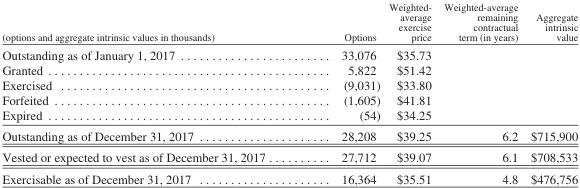table: (1, 0, 577, 185)
table column: (1, 0, 302, 185), (437, 0, 523, 185), (302, 0, 383, 185), (383, 0, 437, 185), (523, 0, 577, 185)
table column header: (1, 0, 577, 44)
table row: (1, 0, 577, 44), (1, 125, 577, 146), (1, 146, 577, 167), (1, 44, 577, 62), (1, 107, 577, 125), (1, 167, 577, 185), (1, 62, 577, 77), (1, 77, 577, 92), (1, 92, 577, 107)
